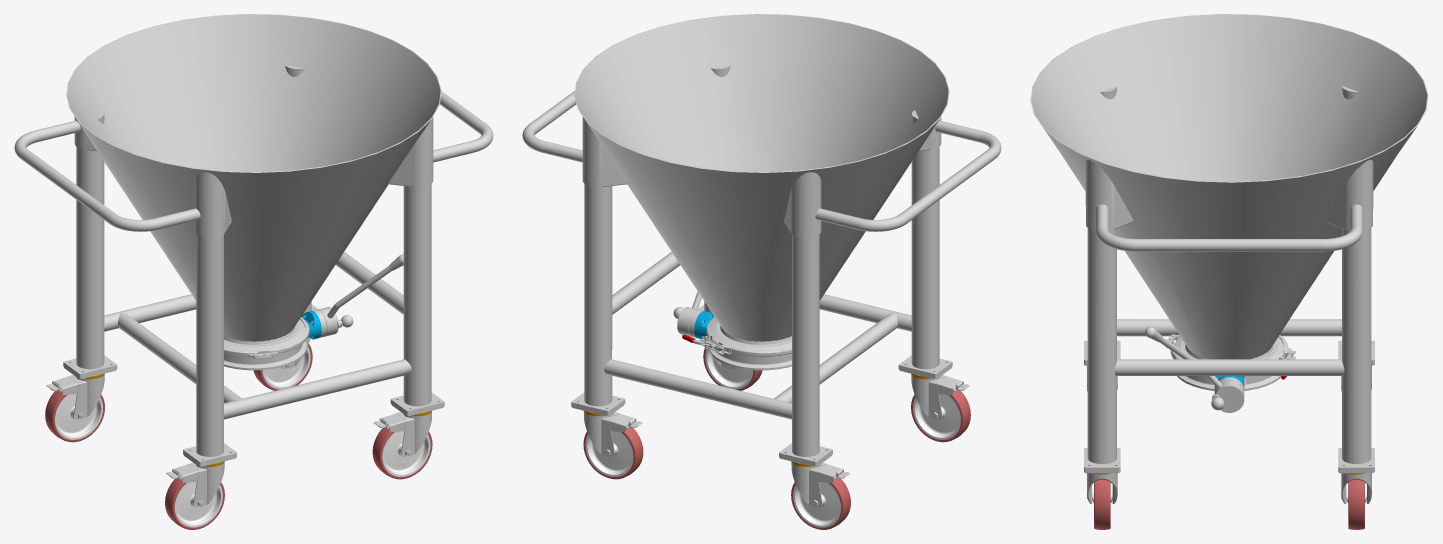
The model's file is Seco fermentacionfbx.fbx.
3 renders of one model, left to right at view 1: azimuth 30°, elevation 25°; view 2: azimuth 150°, elevation 25°; view 3: azimuth 270°, elevation 25°, orthographic. The views are drawn at different scales.
Parts seen in each view (by area): view 1: BIN_mir-1; view 2: BIN_mir-1; view 3: BIN_mir-1.
Boxes of the visible parts, x1=… form: BIN_mir-1: x1=14, y1=14, x2=493, y2=529; BIN_mir-1: x1=522, y1=14, x2=1001, y2=529; BIN_mir-1: x1=1030, y1=14, x2=1428, y2=529.
Size of the model in its own units: 786 by 713 by 672.
